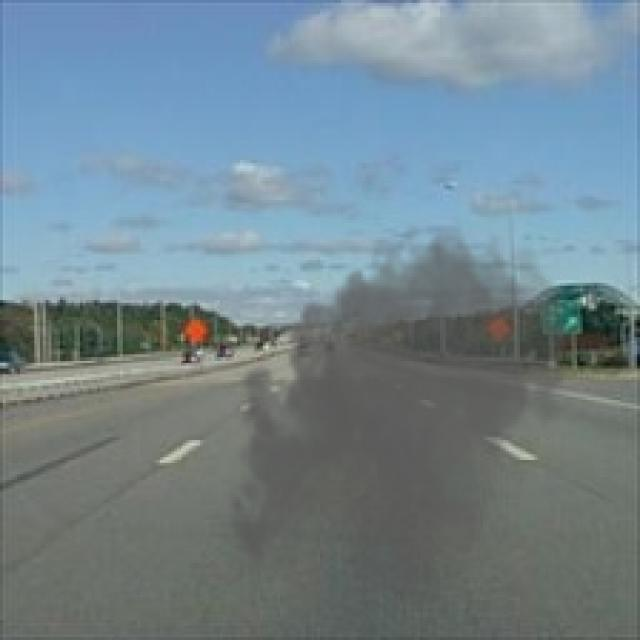smoke: (217, 211, 577, 606)
